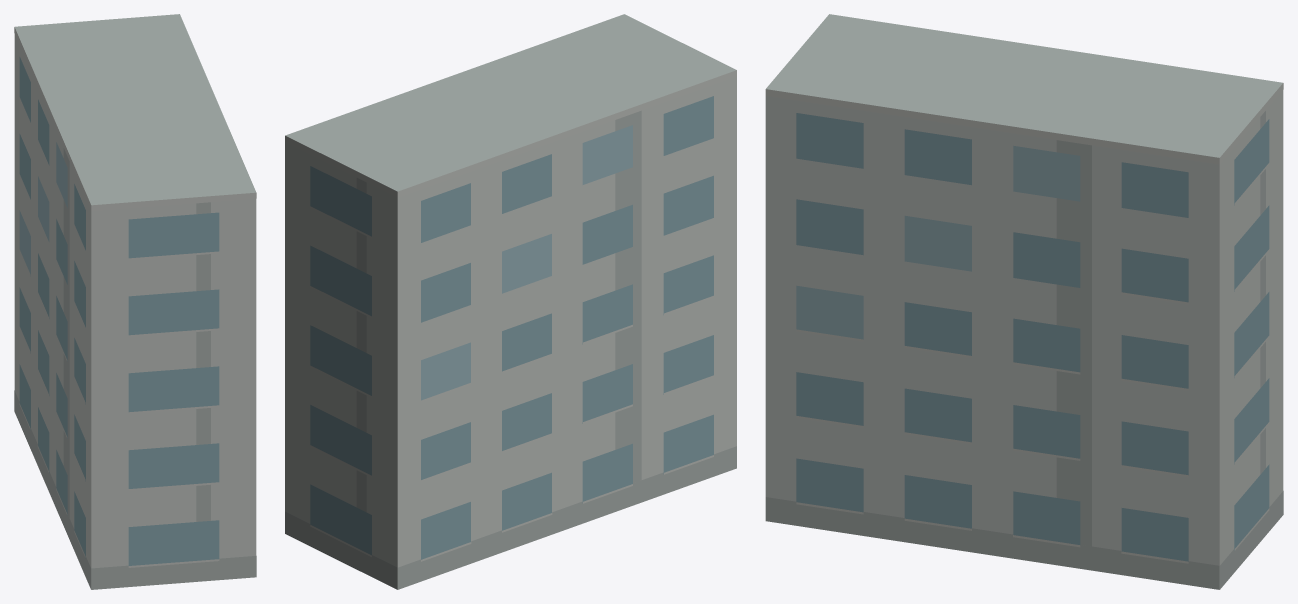
The model's file is residential-4d0d40db-6329-4df0-b156-d2e5592a17cf.glb.
3 views of the same model, side by side, from view 1: azimuth 30°, elevation 25°; view 2: azimuth 150°, elevation 25°; view 3: azimuth 270°, elevation 25° (orthographic). The views are drawn at different scales.
Parts seen in each view (by area): view 1: residential-4d0d40db-6329-4df0-b156-d2e5592a17cf.tmp; view 2: residential-4d0d40db-6329-4df0-b156-d2e5592a17cf.tmp; view 3: residential-4d0d40db-6329-4df0-b156-d2e5592a17cf.tmp.
Boxes of the visible parts, <box> form: residential-4d0d40db-6329-4df0-b156-d2e5592a17cf.tmp: <box>14,14,256,589</box>; residential-4d0d40db-6329-4df0-b156-d2e5592a17cf.tmp: <box>285,14,736,589</box>; residential-4d0d40db-6329-4df0-b156-d2e5592a17cf.tmp: <box>765,14,1283,589</box>.
Bounding box in the file's own units: 10.9 × 15.25 × 16.58.
